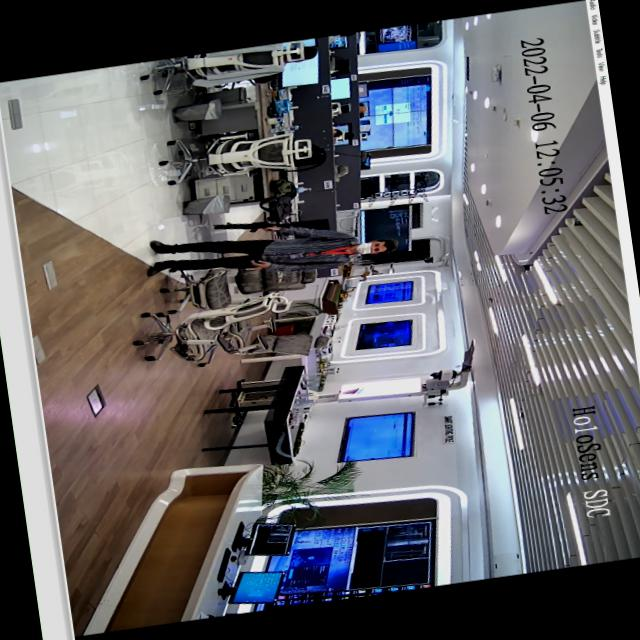long weapon: (202, 212, 296, 244)
